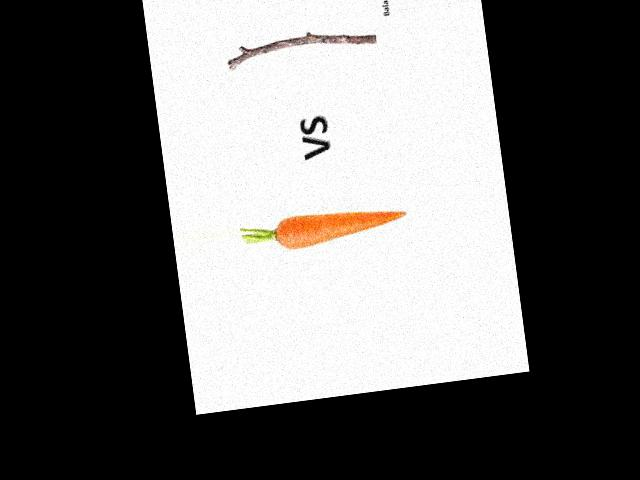carrot: (268, 192, 413, 258)
